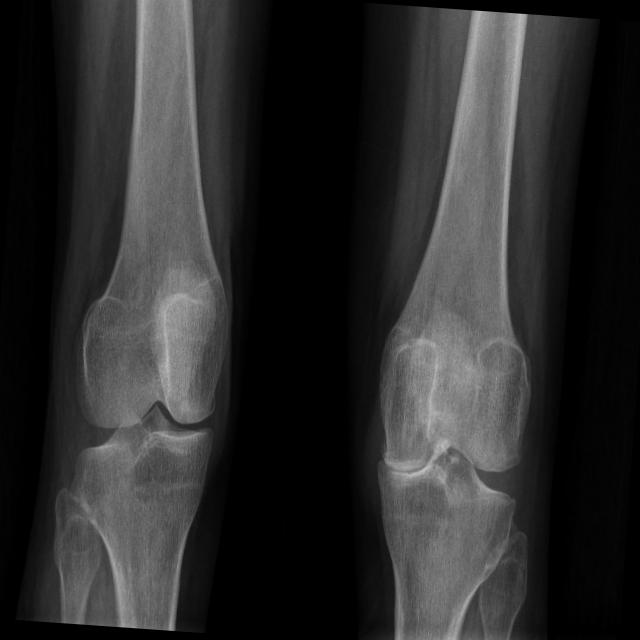Knee: (366, 384, 530, 540), (66, 341, 222, 496)
